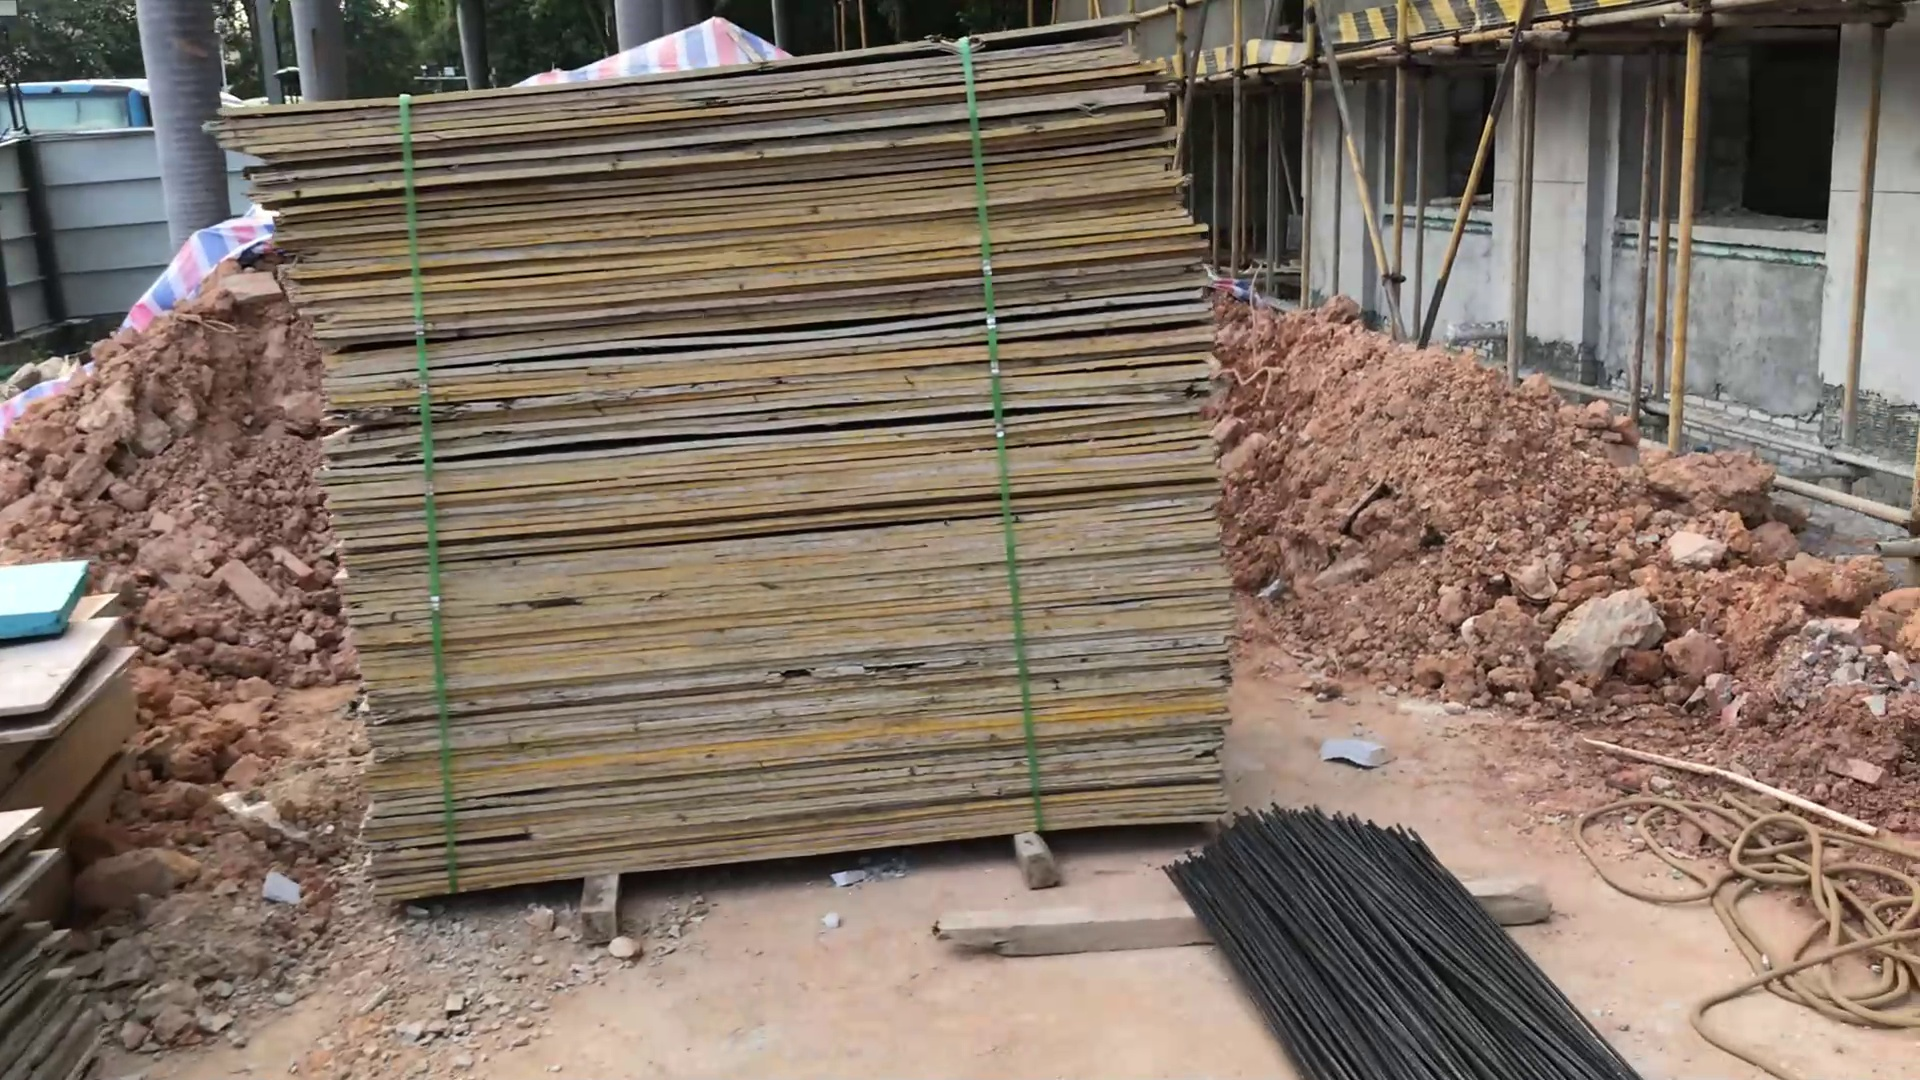board: (191, 28, 1247, 928)
rebar: (1156, 796, 1655, 1080)
